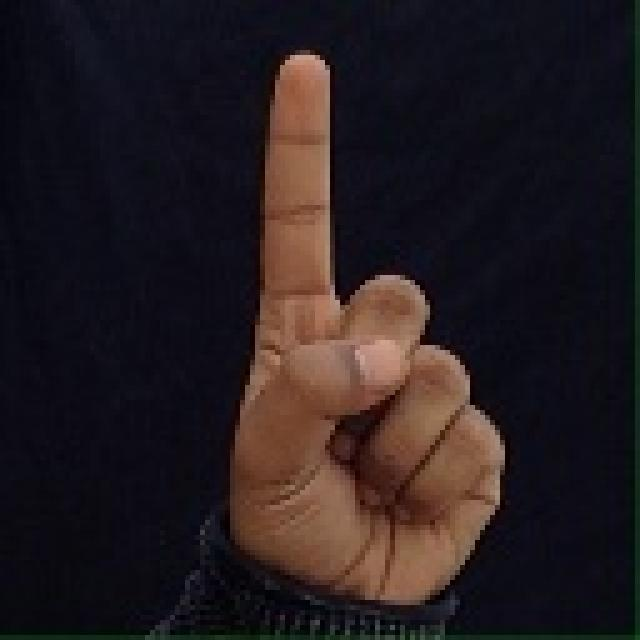Numeric-1: (232, 48, 499, 589)
